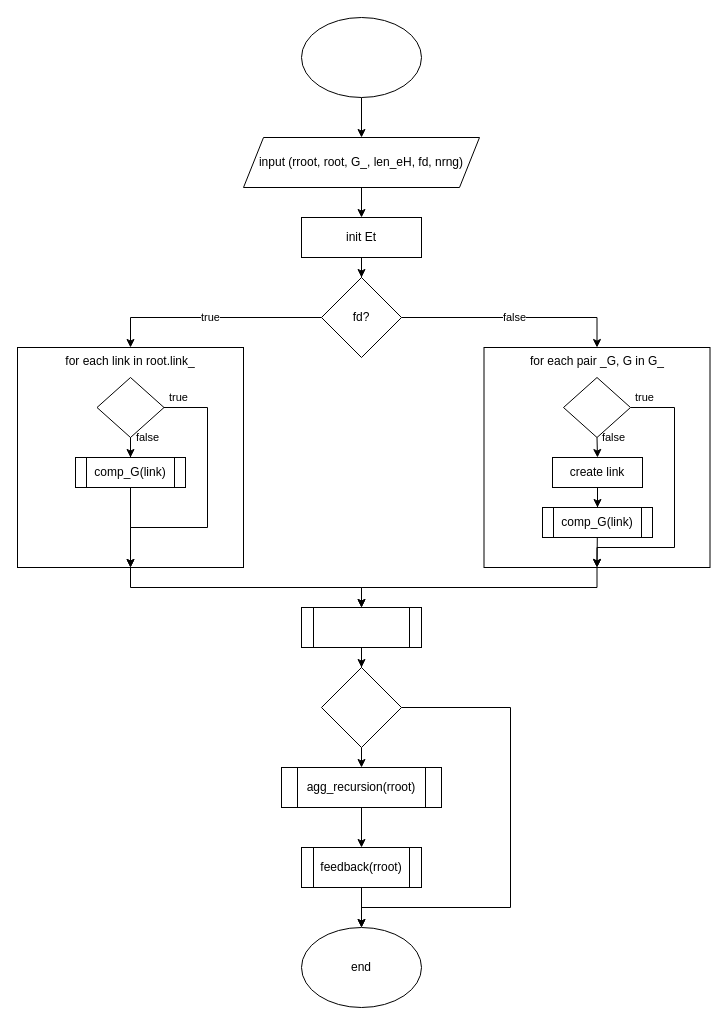
The diagram is 728 pixels wide and 1025 high, and some of its shapes have lost their labels. The shapes that lost their labels are listed below. From the top down, each one's centre as x and y in pixels, then its label:
At point (361, 57): "agg_recursion".
At point (130, 407): "val<ave?".
At point (596, 407): "dist>nrng?".
At point (361, 627): "form_graph_t".
At point (361, 707): "new graph_t formed?".
